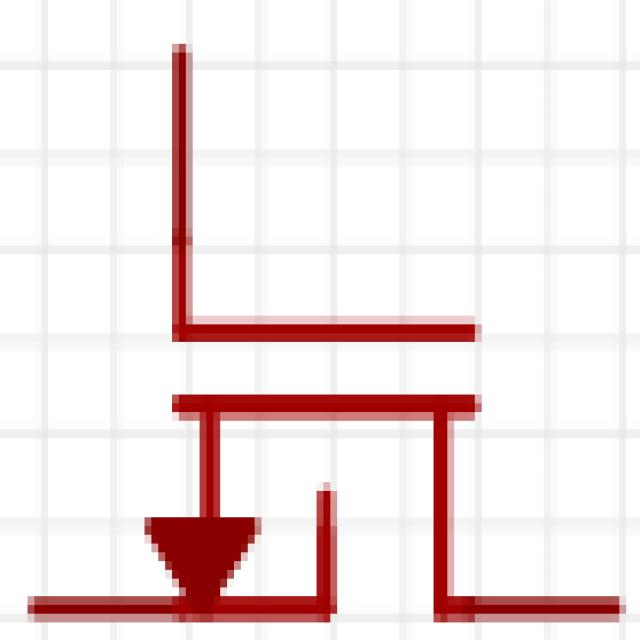nmos: (34, 41, 640, 640)
